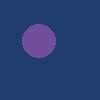Circle: (20, 23, 56, 60)
